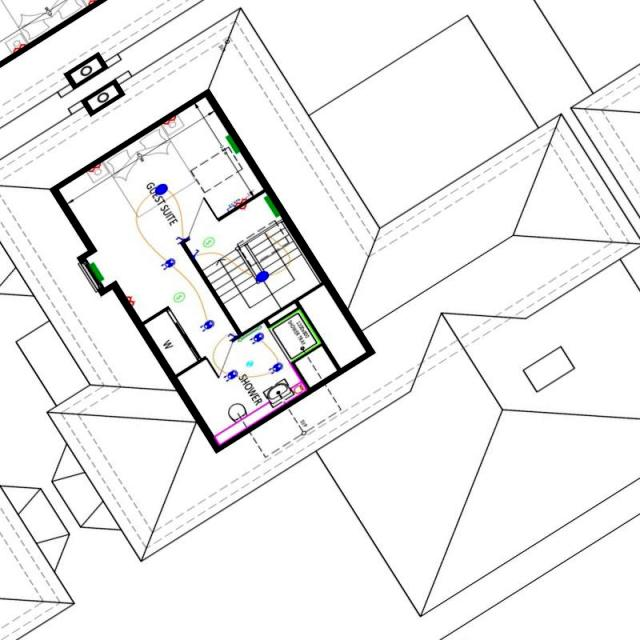Cat 6 Data Socket: (226, 198, 240, 211)
Ceiling Mounted Continuous Extract FanWith Boost Mode Activated By Light Switch: (245, 359, 253, 366)
Co-Ax TV Socket: (245, 189, 254, 198)
Double Socket: (162, 114, 176, 125), (11, 42, 25, 52), (87, 162, 100, 172), (126, 294, 135, 306), (234, 198, 246, 205)
Full Height Tiling: (268, 308, 322, 360)
Light Switch: (192, 248, 198, 257), (226, 333, 236, 338), (175, 236, 184, 241)
Low Energy Downlighter: (222, 368, 238, 382), (160, 256, 175, 270), (199, 319, 214, 331), (249, 331, 264, 343), (268, 362, 282, 374)
Low Energy Pendant Light: (255, 270, 269, 282), (154, 183, 168, 194)
Mains Wired Smoke Detector: (172, 291, 185, 302), (202, 236, 214, 247)
Radiator: (263, 195, 279, 217), (88, 262, 104, 282), (225, 134, 239, 154)
Shaver Socket: (291, 382, 305, 393)
Single Socket: (239, 204, 246, 210)
